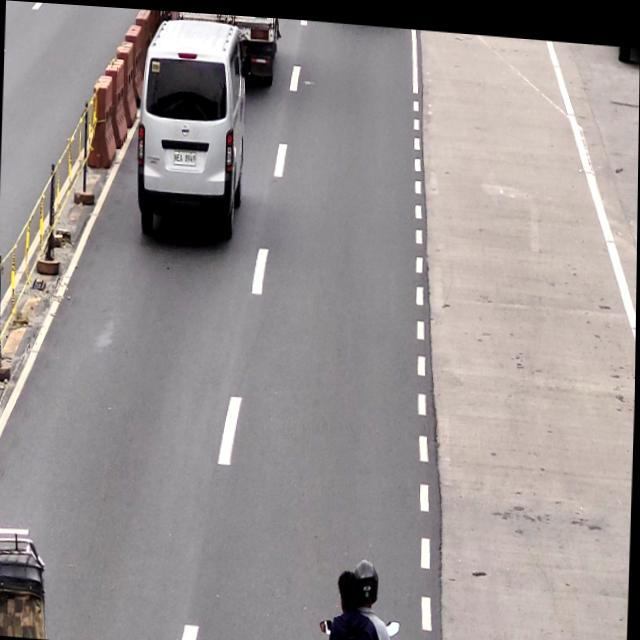Car: (136, 12, 248, 240)
License-Plate: (174, 147, 197, 163)
Motorcycle: (327, 554, 395, 640)
